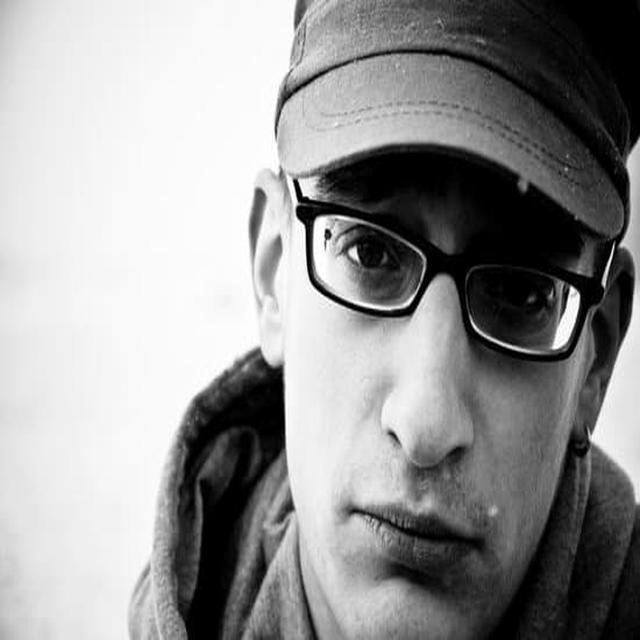Sadness: (284, 166, 565, 640)
